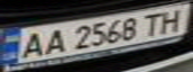2: (69, 21, 93, 52)
5: (90, 19, 112, 47)
6: (106, 17, 127, 44)
8: (118, 15, 142, 42)
A: (15, 29, 51, 61), (39, 26, 69, 56)
H: (154, 6, 190, 34)
T: (136, 10, 166, 37)
